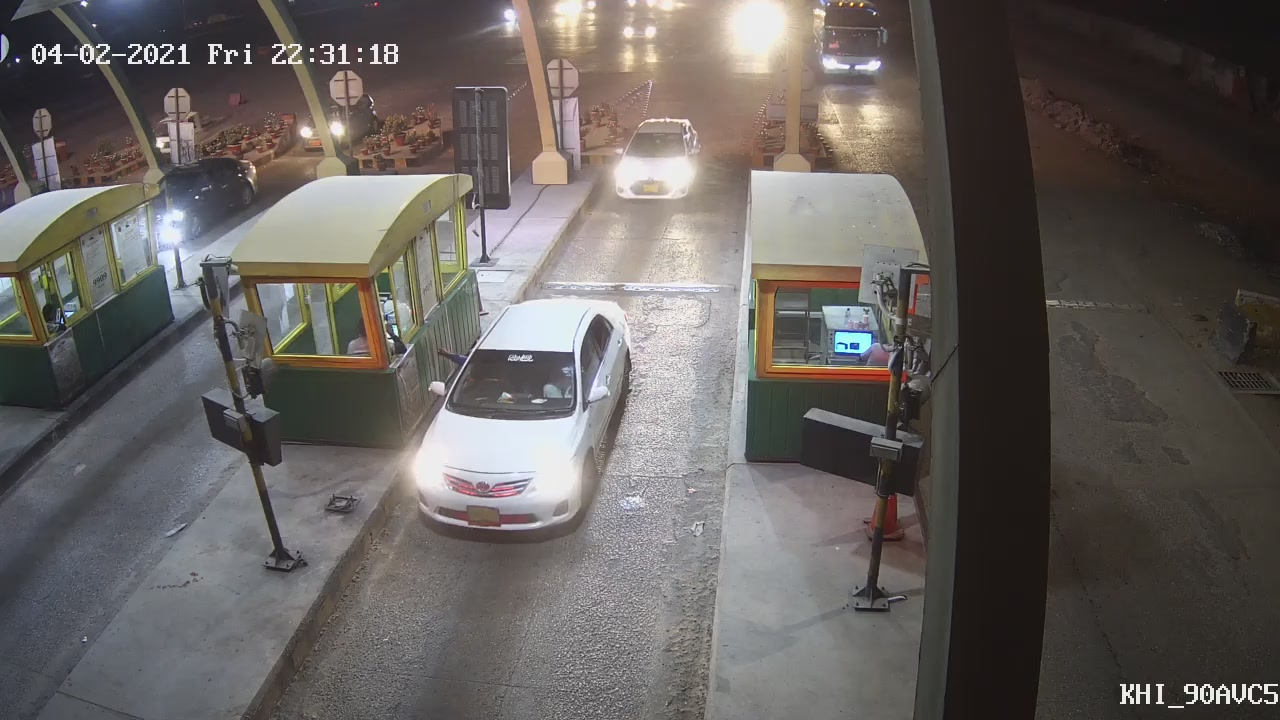F1: (405, 296, 640, 539), (607, 113, 704, 207)
